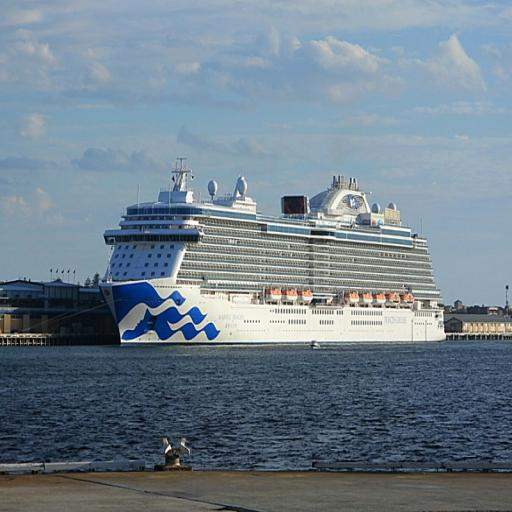cruises: (100, 152, 450, 350)
